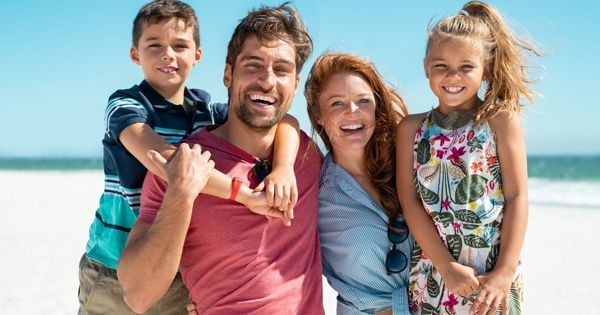without_mask: (237, 41, 295, 126), (314, 80, 382, 145), (428, 38, 478, 107), (138, 22, 191, 87)
